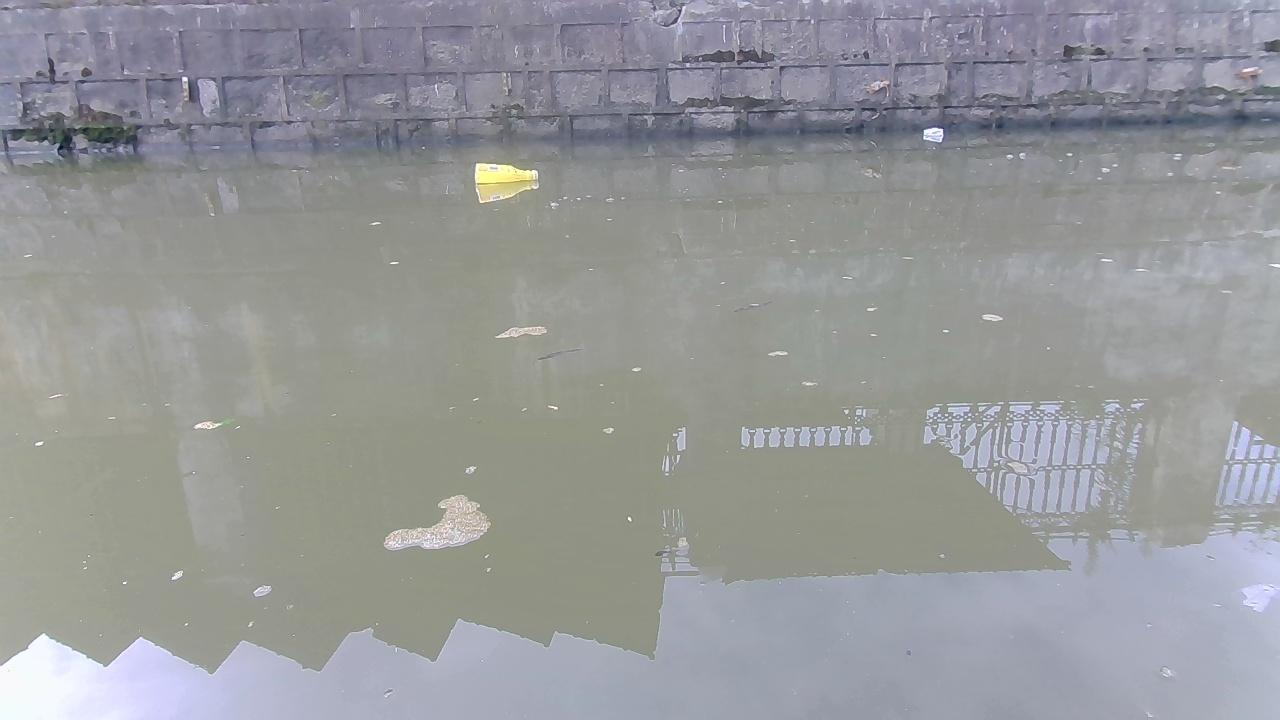bottle: (471, 162, 540, 187), (923, 123, 942, 142)
